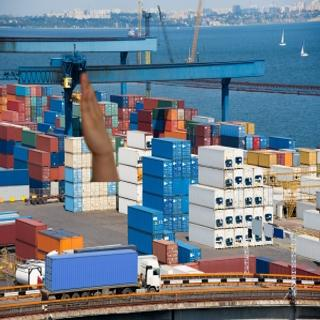RIGHT: (73, 71, 115, 156)
